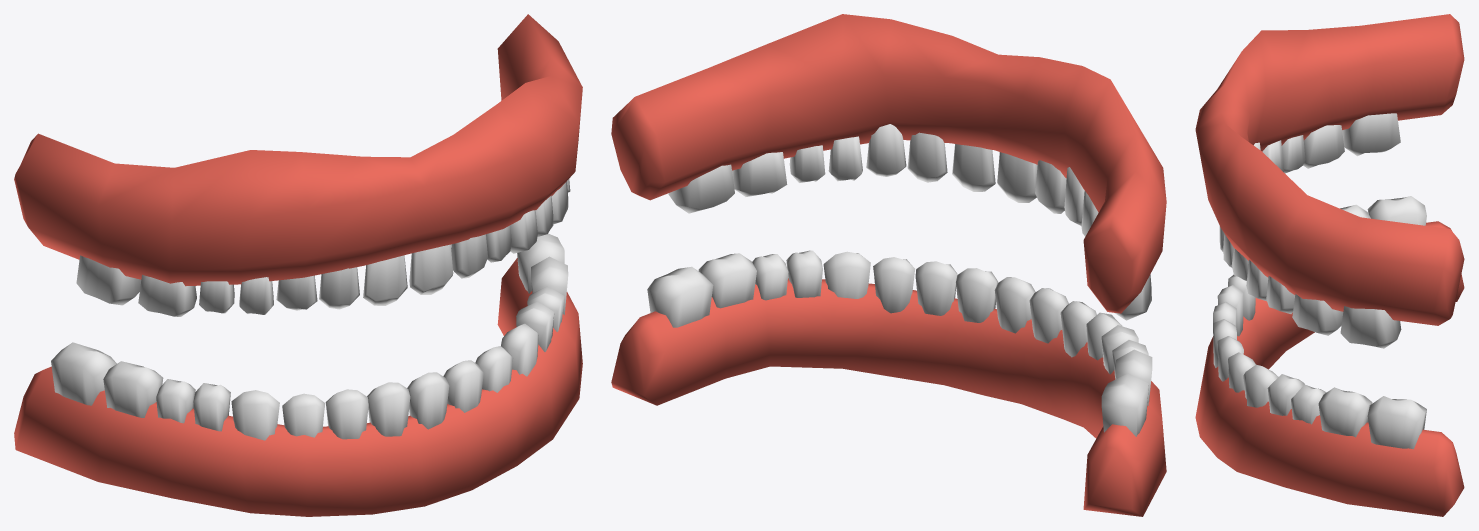
File: dentures.fbx
The picture shows the model from 3 angles, left to right: view 1: azimuth 30°, elevation 25°; view 2: azimuth 150°, elevation 25°; view 3: azimuth 270°, elevation 25°; orthographic projection. The views are drawn at different scales.
Visible parts, largest first — view 1: top set, bottom set; view 2: top set, bottom set; view 3: top set, bottom set.
Boxes of the visible parts, x1,y1,x2,y2 form: top set: (14, 14, 582, 316); bottom set: (14, 233, 582, 516); top set: (611, 14, 1166, 320); bottom set: (611, 250, 1166, 516); top set: (1195, 14, 1464, 348); bottom set: (1195, 196, 1464, 516).
Size of the model in its own units: 481 by 308 by 230.
